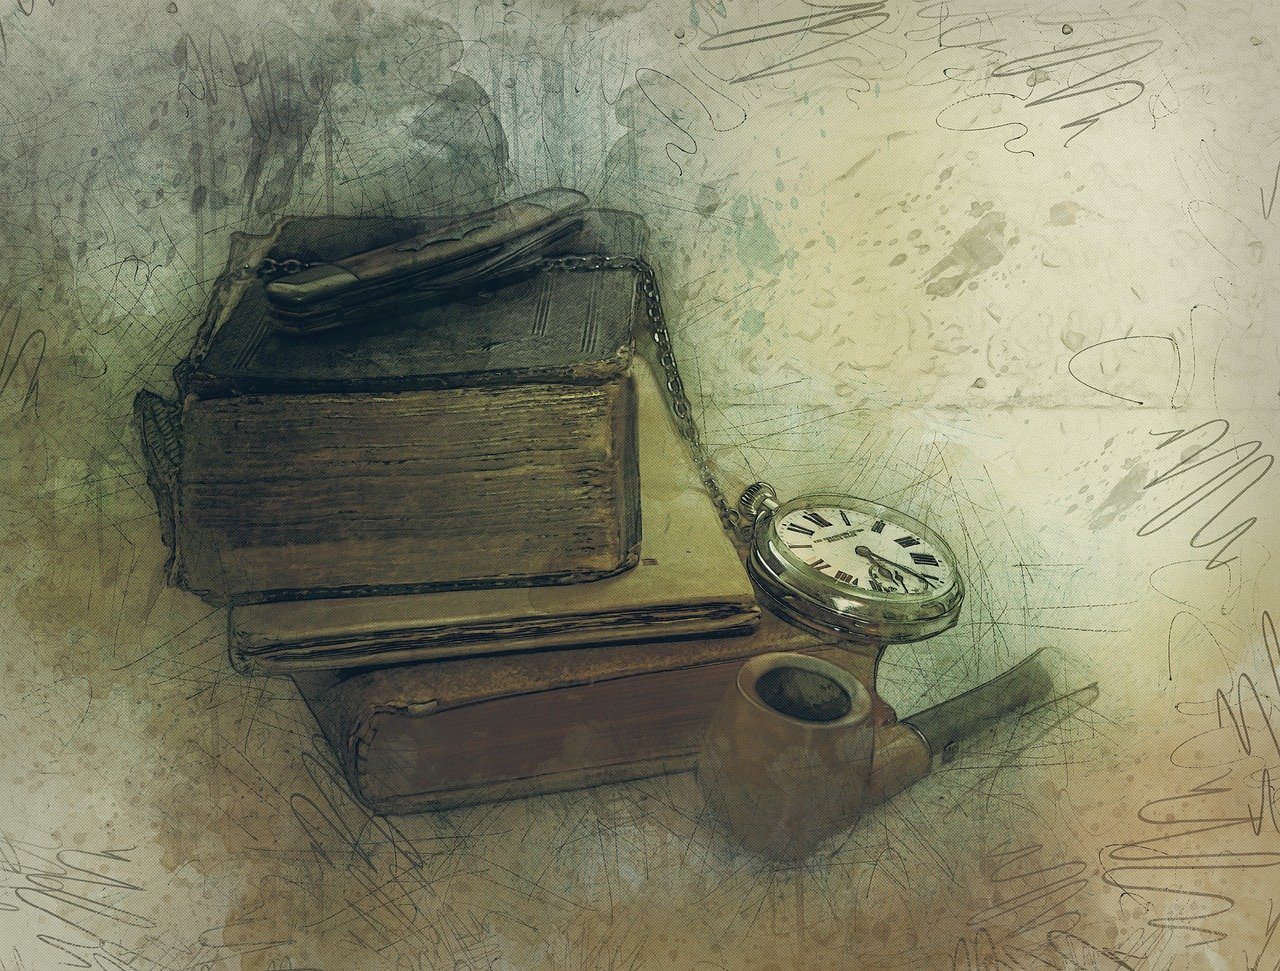knife: (257, 183, 603, 339)
